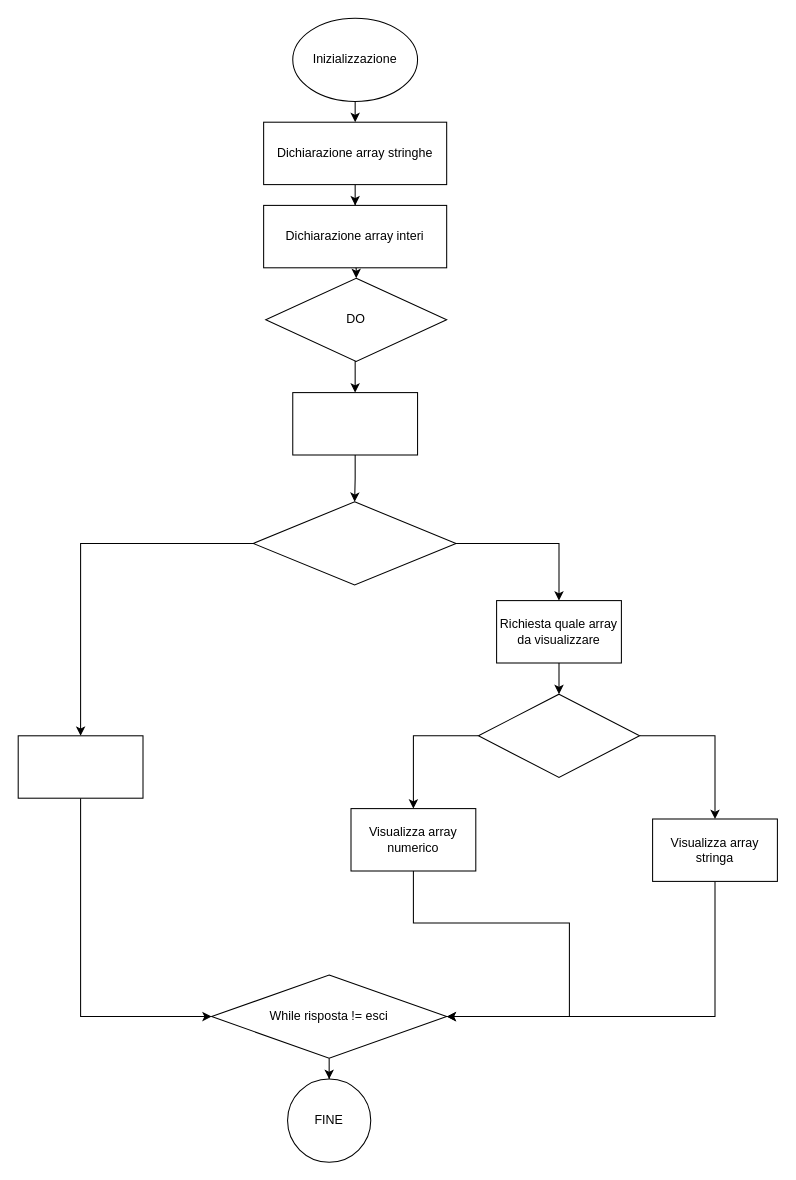
Some shapes in this 796 by 1180 pixel diagram are drawn without their labels. The centre of each missing label's shape, as x and y in pixels:
"Aggiungi elemento array" goes at (80,766).
"if array == stringa" goes at (558,735).
"if risposta == visualizza" goes at (354,543).
"Menu richiesta visualizza o aggiungi" goes at (355,423).
